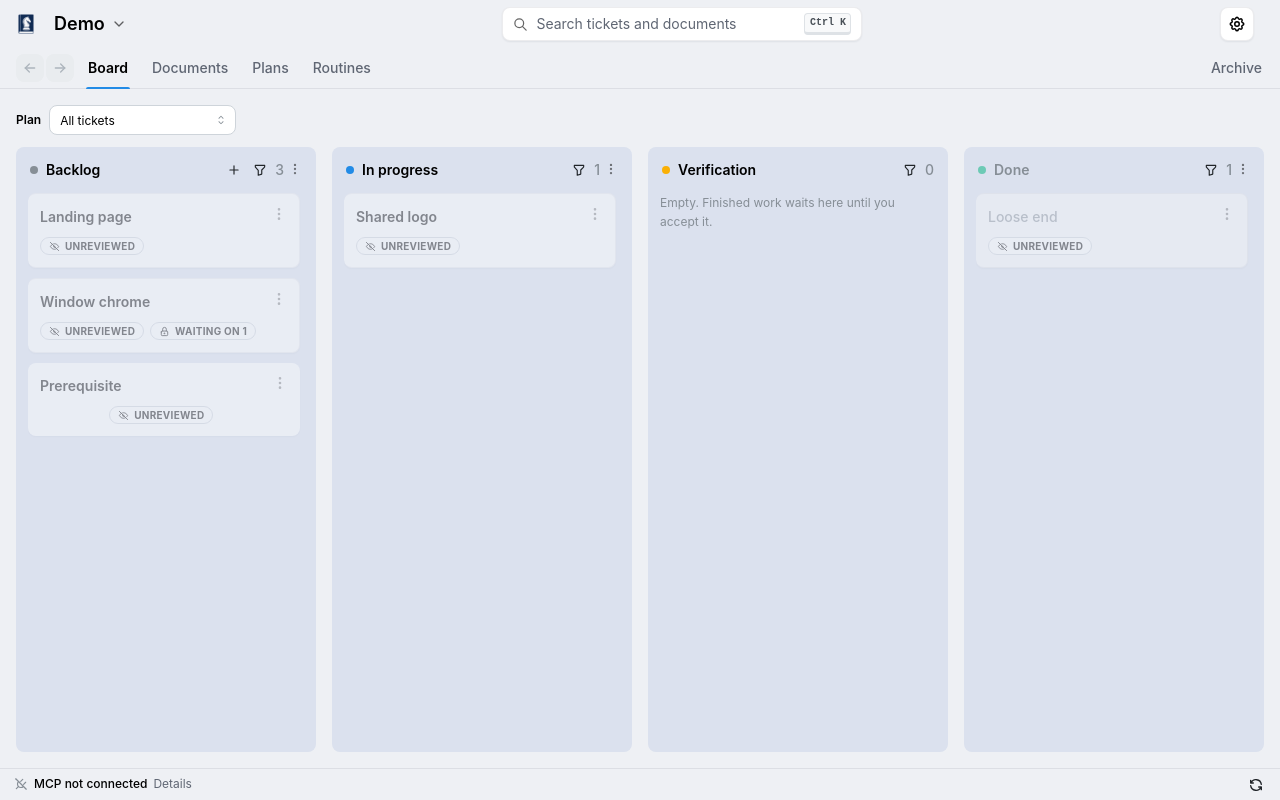
the plan filter › offers All tickets, each plan and No plan
This screenshot has width=1280, height=800.
Click the dropdown labelled "Plan". click: (143, 120)
box: [49,105,236,135]
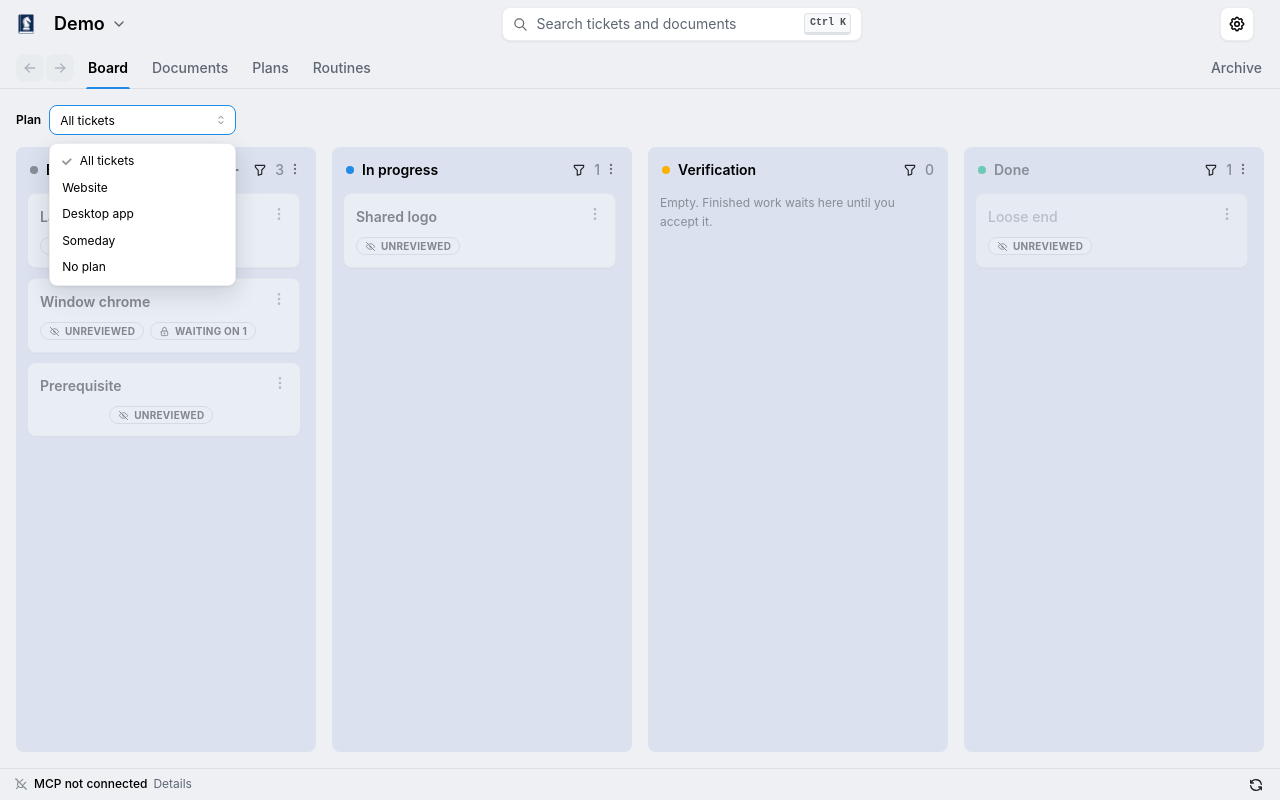
Expected: the options read "All tickets", "Website", "Desktop app", "Someday", "No plan", in this order, [62,153,134,168]; [62,180,108,195]; [62,206,134,221]; [62,233,115,248]; [62,259,106,274]
